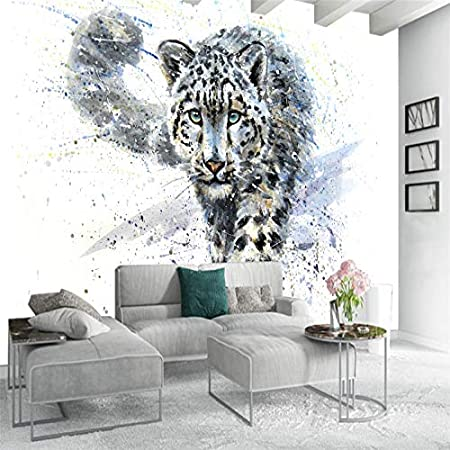Tigrew: (125, 12, 334, 281)
